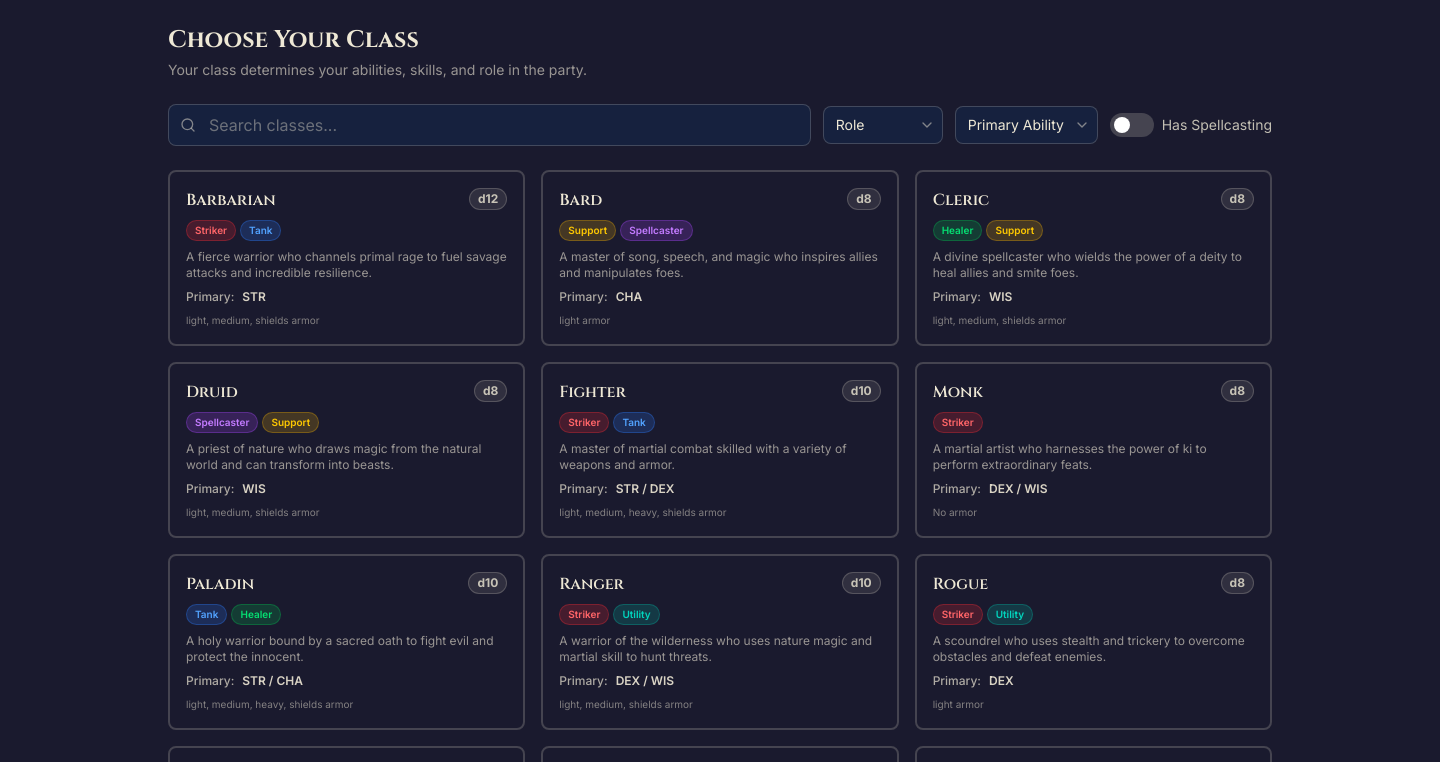
it: ClassStep › resets choices when changing class
Click the option that starts with "Fighter" at (720, 450), box [541,362,899,538]
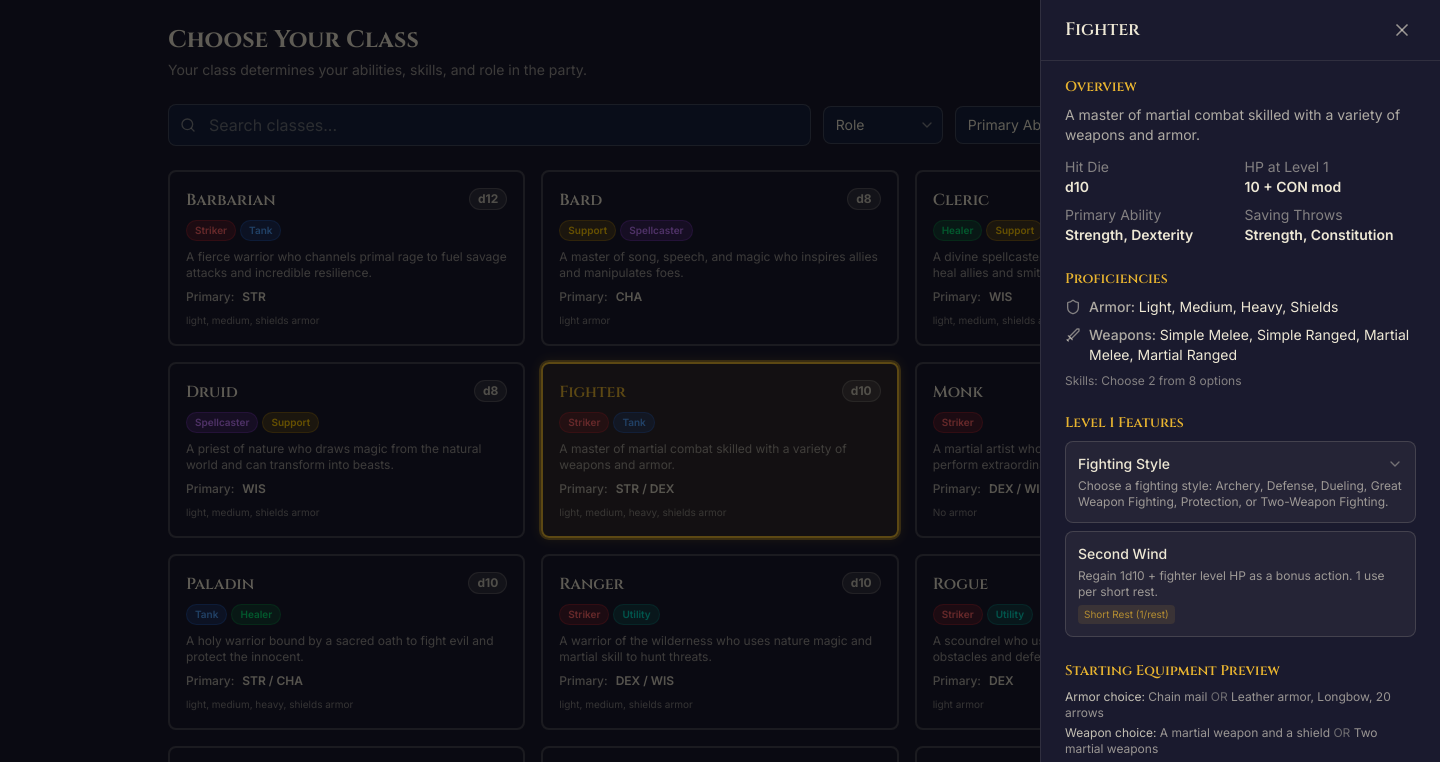
Note: Close the panel (there are 2 close buttons: desktop + mobile)
Click the button named "Close panel" at (1402, 30), box [1388,16,1416,44]
(page scrolled)
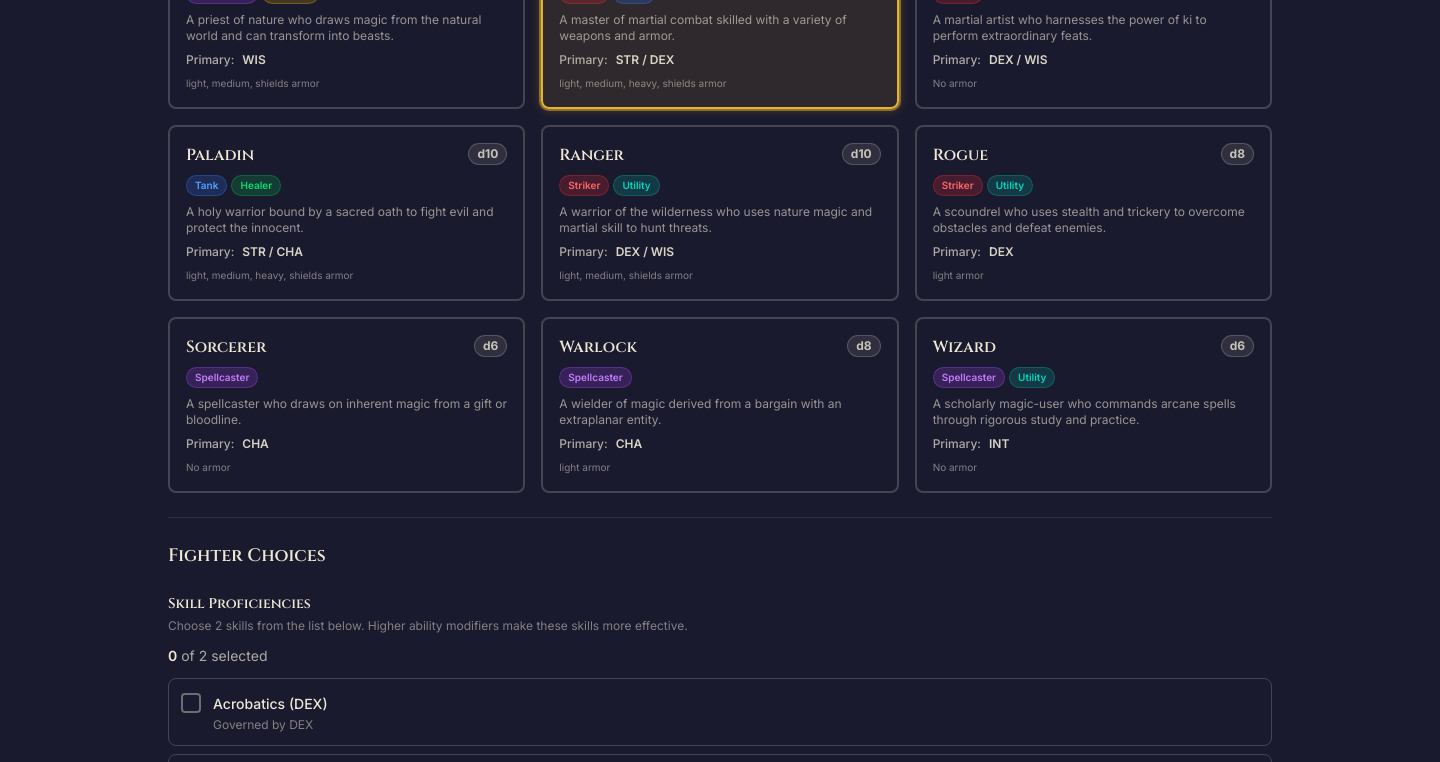
Click the option that starts with "Wizard" at (1093, 405), box [915,317,1272,493]
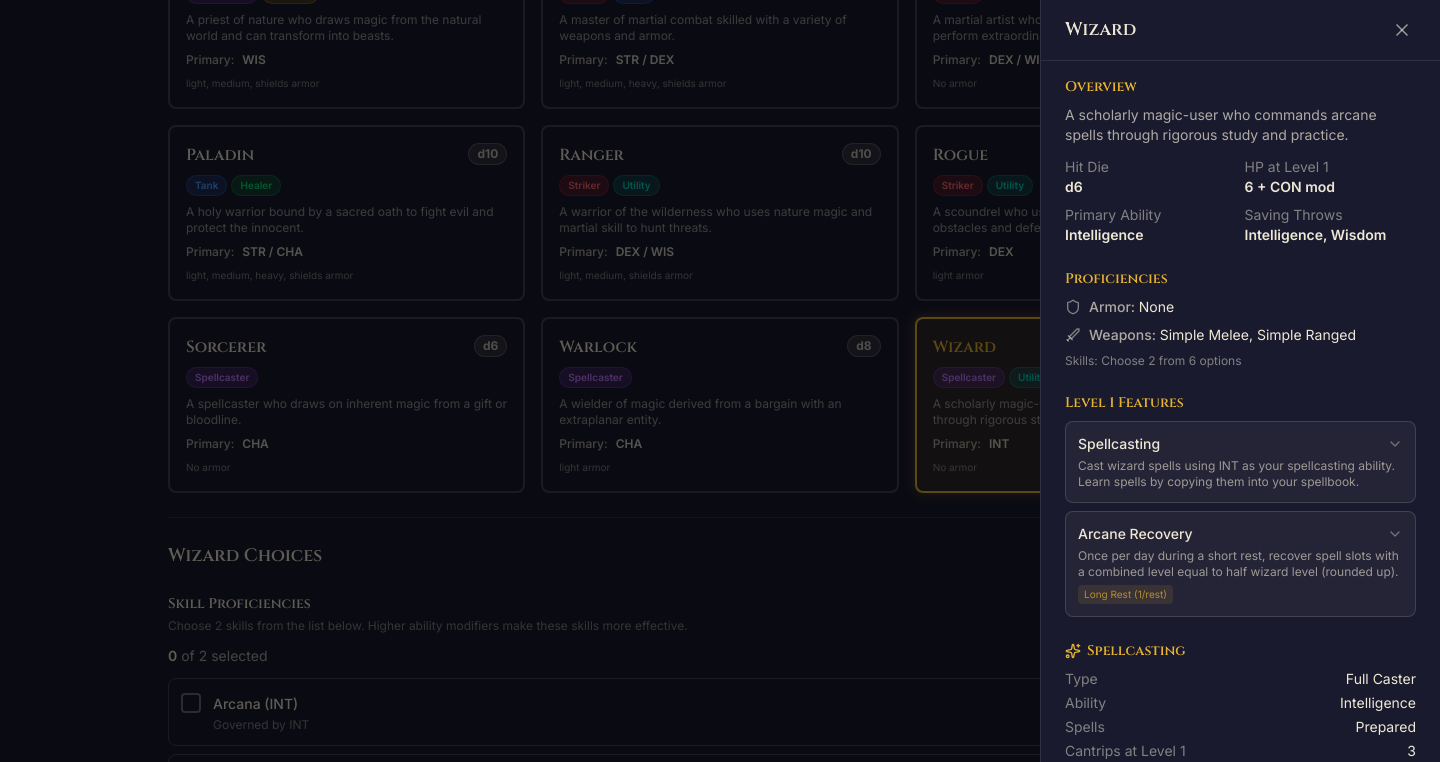
Result: the heading "Wizard Choices" is shown at [168,543,322,568]
